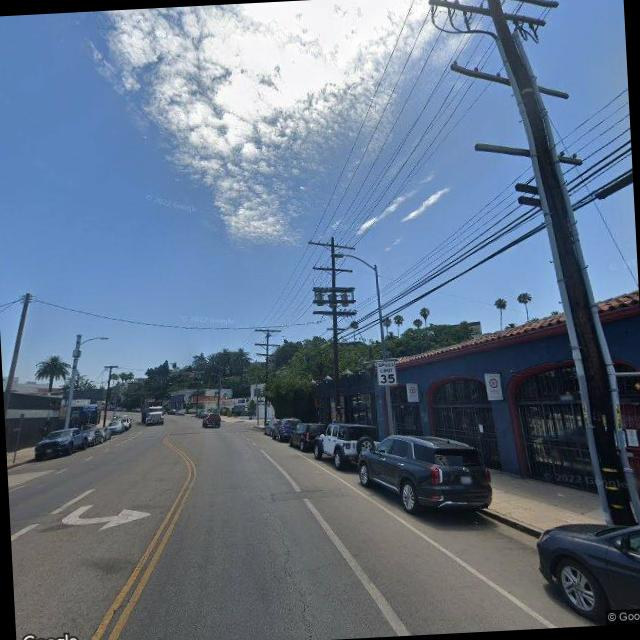pothole: (271, 510, 314, 640)
